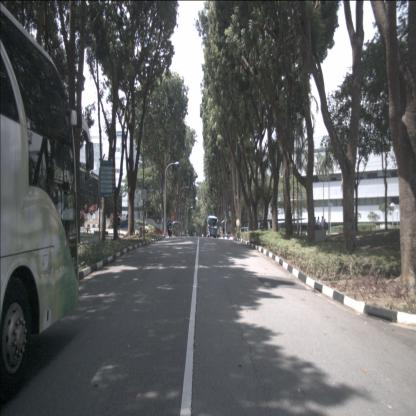human-pedestrian-adult: (117, 214, 120, 238), (320, 216, 324, 233), (323, 218, 327, 235), (206, 225, 211, 238), (313, 217, 317, 233), (317, 216, 320, 233), (223, 226, 224, 237)
vehicle-bus-rigid: (0, 2, 79, 402), (206, 215, 218, 238)
vehicle-motorcycle: (167, 219, 173, 238)
